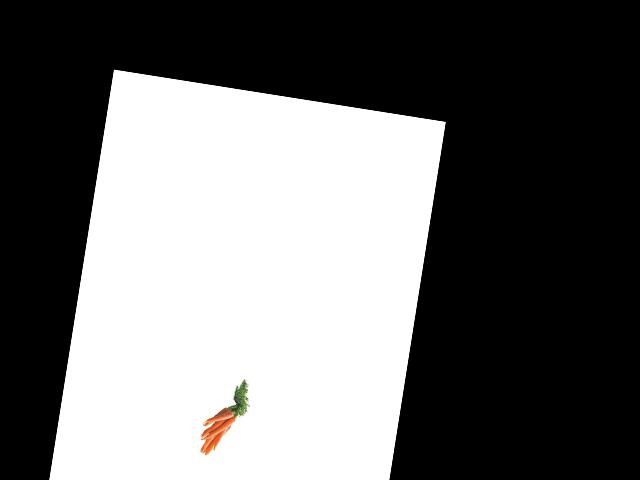carrot: (195, 402, 232, 424)
